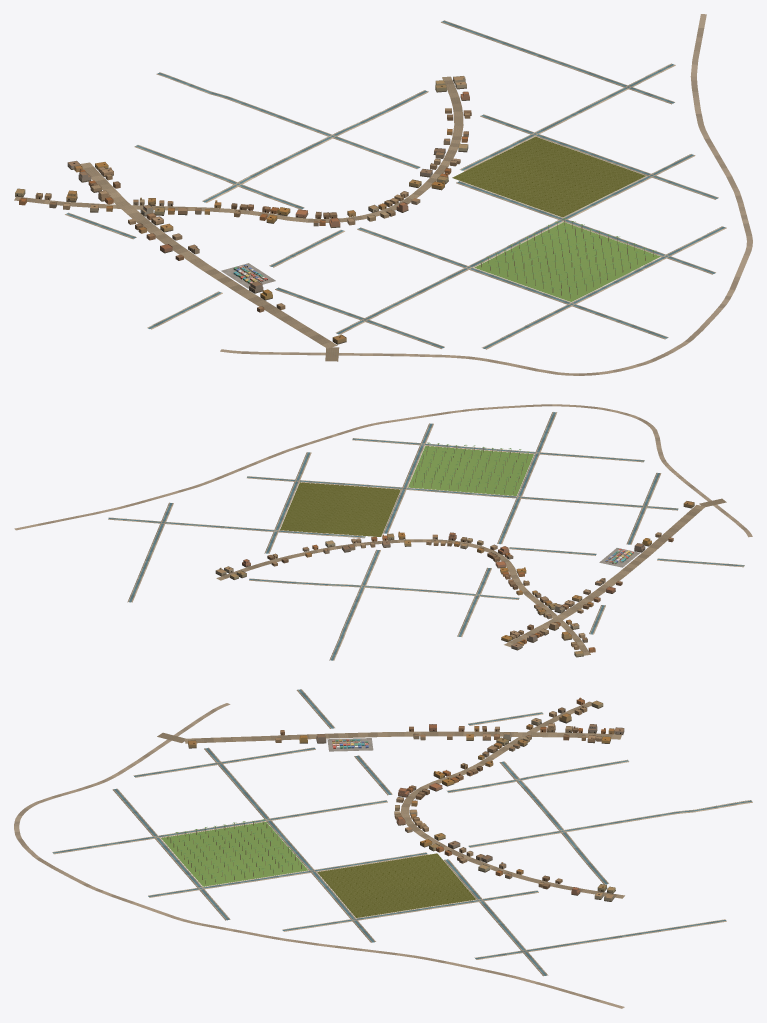
The model's file is uruk_quarter_15.glb.
3 renders of one model, top to bottom at view 1: azimuth 30°, elevation 25°; view 2: azimuth 150°, elevation 25°; view 3: azimuth 270°, elevation 25°, orthographic. The views are drawn at different scales.
Visible parts, largest first — view 1: uruk_quarter_15; view 2: uruk_quarter_15; view 3: uruk_quarter_15.
Part boxes in pixels (box(x1,y1,x2,y2)): uruk_quarter_15: box(14, 14, 752, 375); uruk_quarter_15: box(14, 404, 752, 660); uruk_quarter_15: box(14, 689, 752, 1008).
Bounding box in the file's own units: 919 × 11.37 × 897.
25 materials, 6 textured.
